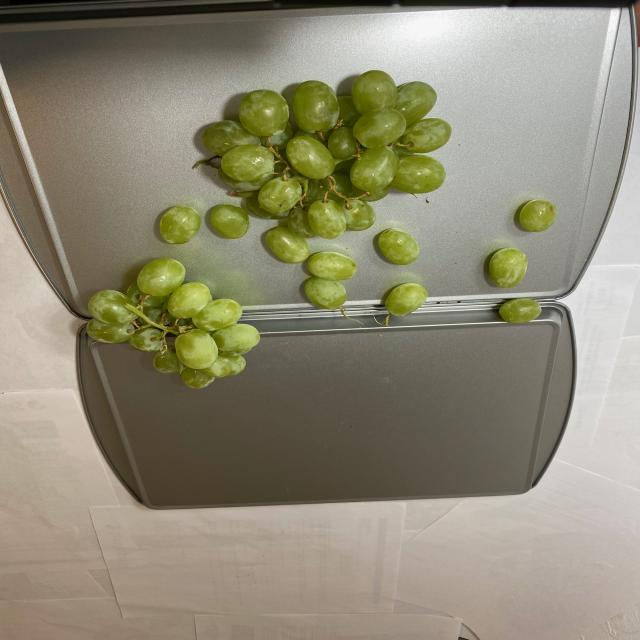Grapes: (89, 70, 558, 387)
